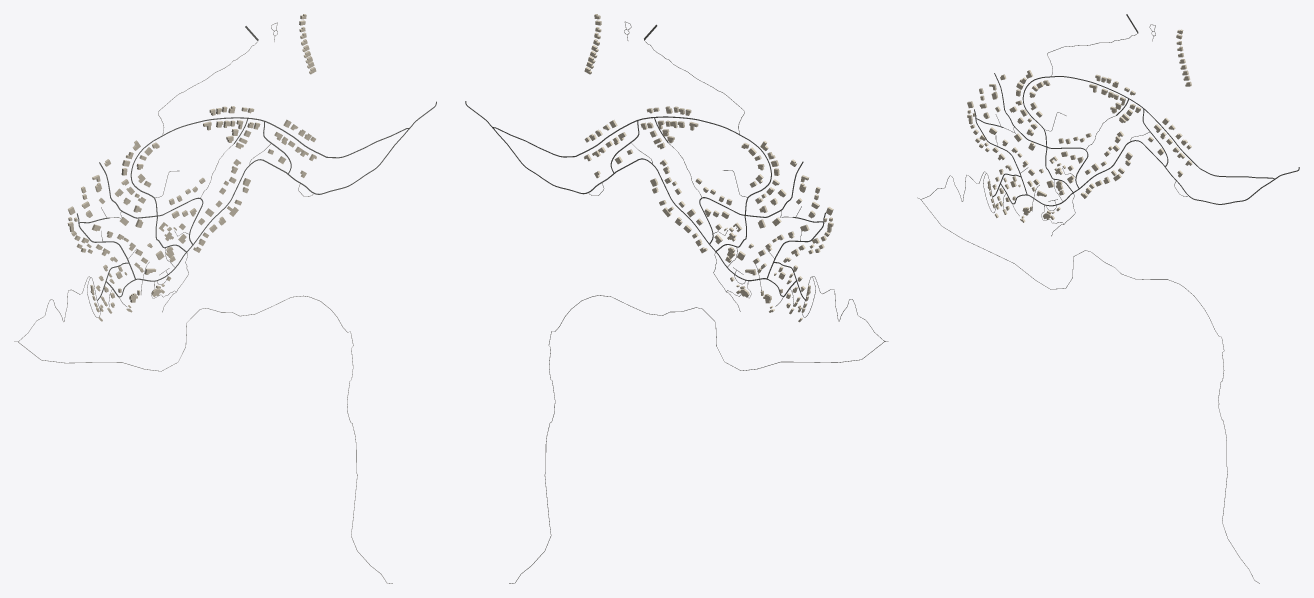
Rendered from historic-palestine-09_27_3510_3214.glb.
The picture shows the model from 3 angles, left to right: view 1: azimuth 30°, elevation 25°; view 2: azimuth 150°, elevation 25°; view 3: azimuth 330°, elevation 25°; orthographic projection. The views are drawn at different scales.
Visible parts, largest first — view 1: Road .003, Road .029, Road .002; view 2: Road .029, Road .003, Road .002; view 3: Road .003, Road .029, Road .002.
Part boxes in pixels (left/top/right/bottom): Road .003: left=130, top=117, right=409, bottom=251; Road .029: left=18, top=295, right=392, bottom=583; Road .002: left=106, top=101, right=436, bottom=297; Road .029: left=509, top=295, right=884, bottom=583; Road .003: left=493, top=116, right=771, bottom=251; Road .002: left=465, top=101, right=796, bottom=296; Road .003: left=1022, top=76, right=1274, bottom=192; Road .029: left=921, top=200, right=1259, bottom=583; Road .002: left=1000, top=140, right=1299, bottom=206.
Bounding box in the file's own units: 1300 × 1745 × 8.7.
